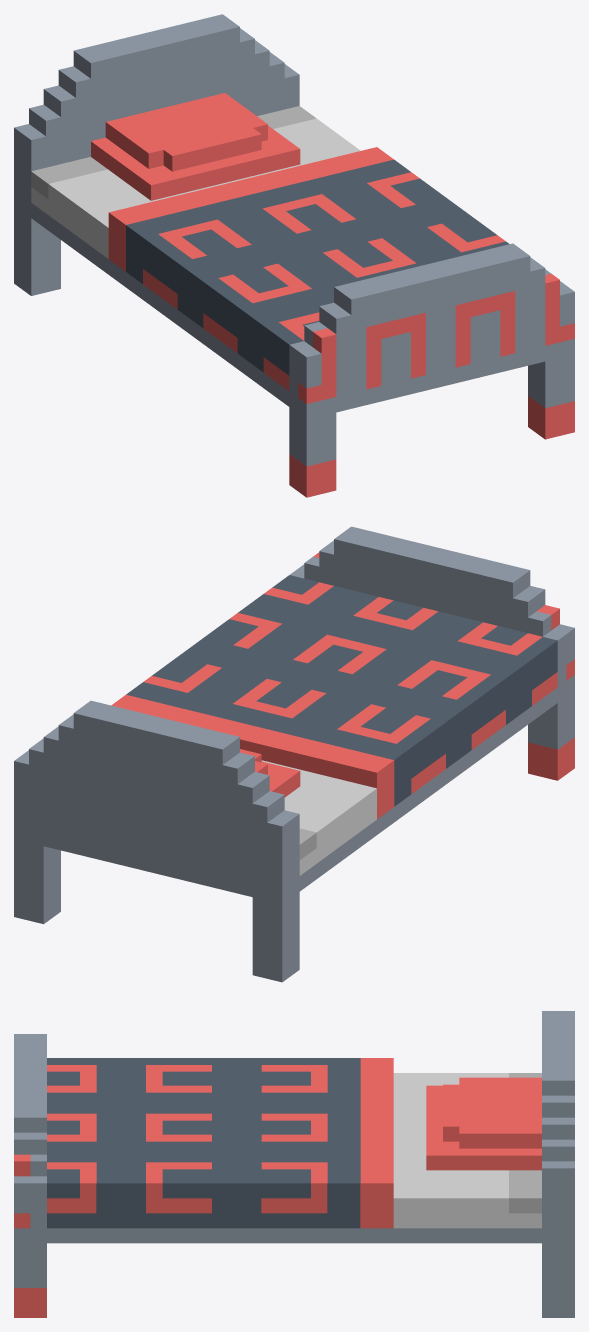
The model's file is bed1.obj.
The picture shows the model from 3 angles, top to bottom: view 1: azimuth 30°, elevation 25°; view 2: azimuth 150°, elevation 25°; view 3: azimuth 270°, elevation 25°; orthographic projection. The views are drawn at different scales.
Visible parts, largest first — view 1: bed1; view 2: bed1; view 3: bed1.
Boxes of the visible parts, x1,y1,x2,y2 form: bed1: (14, 14, 574, 497); bed1: (14, 526, 574, 982); bed1: (14, 1011, 574, 1317).
Size of the model in its own units: 18 by 14 by 34.
Materials: 1 (1 with a texture image).
